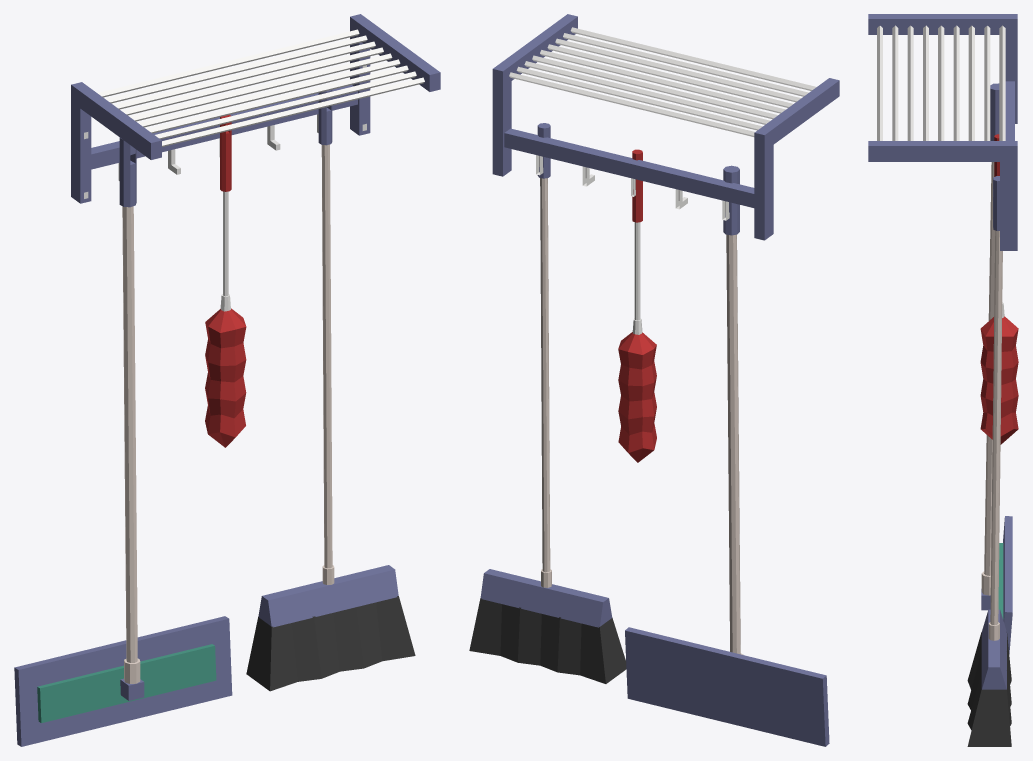
File: Laundry_shelf_with_things_1.fbx
3 renders of one model, left to right at view 1: azimuth 30°, elevation 25°; view 2: azimuth 150°, elevation 25°; view 3: azimuth 270°, elevation 25°, orthographic. The views are drawn at different scales.
Visible parts, largest first — view 1: Laundry_shelf_with_things_1; view 2: Laundry_shelf_with_things_1; view 3: Laundry_shelf_with_things_1.
Boxes of the visible parts, x1,y1,x2,y2 form: Laundry_shelf_with_things_1: (14,14,440,746); Laundry_shelf_with_things_1: (469,14,839,746); Laundry_shelf_with_things_1: (868,14,1018,746).
Size of the model in its own units: 131 by 48.48 by 213.
